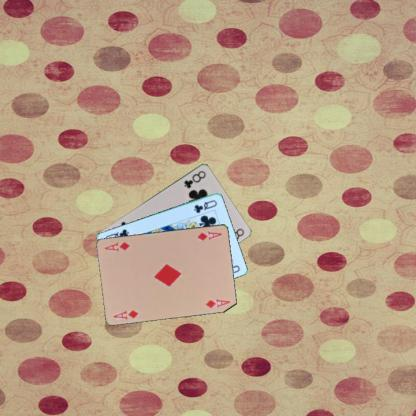8c: (181, 167, 207, 190)
Ad: (111, 306, 139, 321), (195, 228, 223, 242)
Qc: (192, 197, 219, 214)
